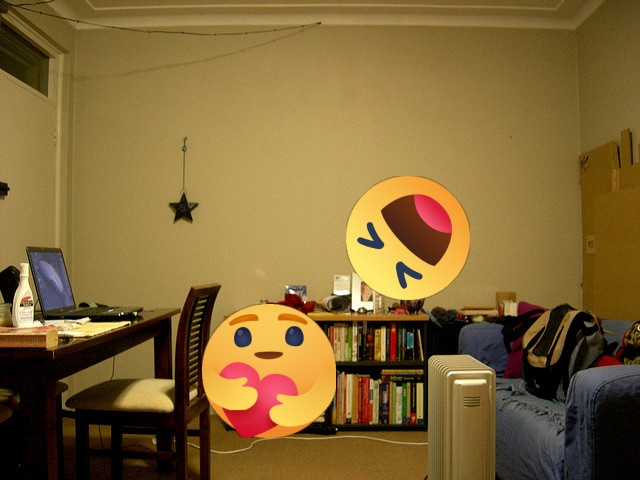care: (202, 304, 336, 438)
haha: (346, 176, 470, 300)
